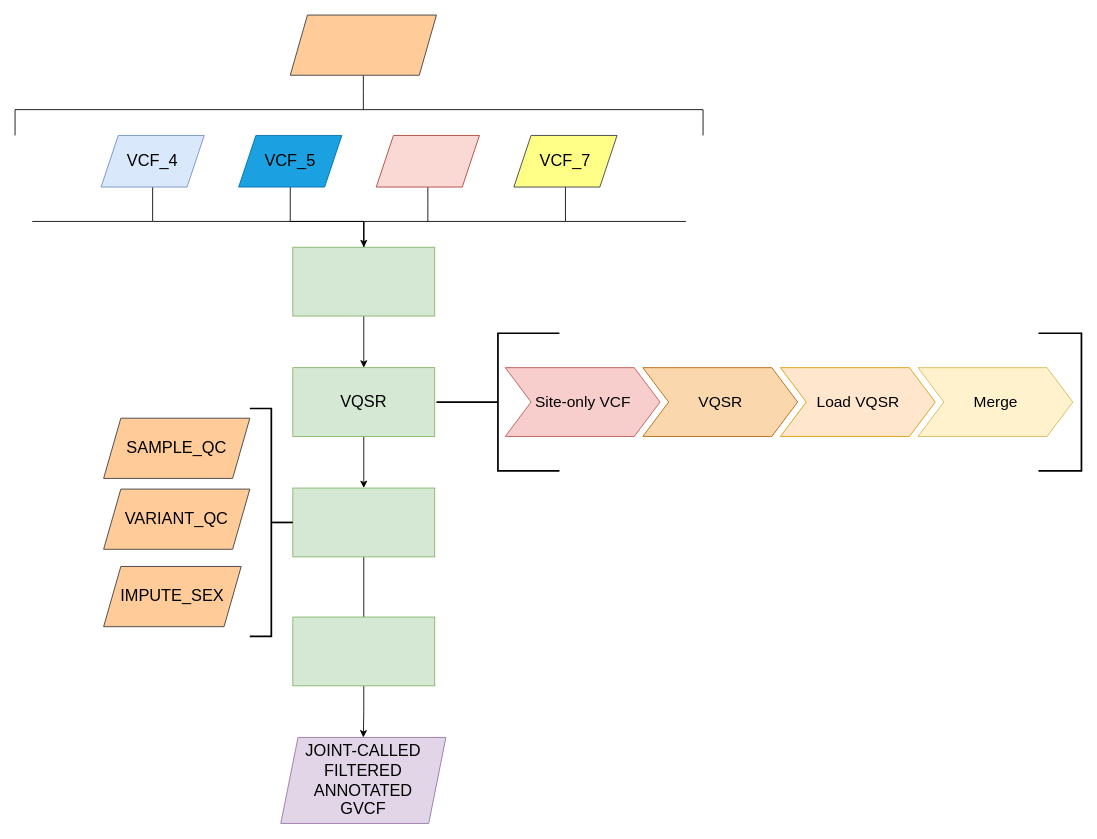
Image size: 1097x839. Some labels were removed from this diagram. The shapes that lost their labels are listed below. From the top down, each one's centre as x and y in pixels, then its label:
At point (362, 44): "reblockGVCF".
At point (427, 161): "VCF_6".
At point (363, 281): "COMBINER".
At point (363, 522): "QC".
At point (363, 651): "VEP".
